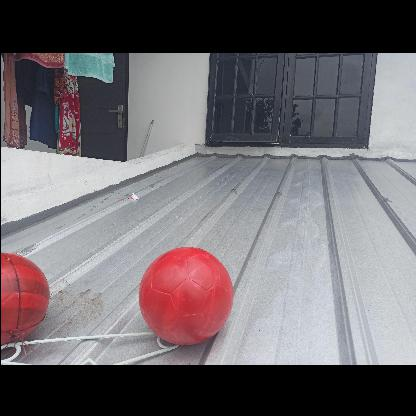red_ball: (138, 245, 235, 342)
